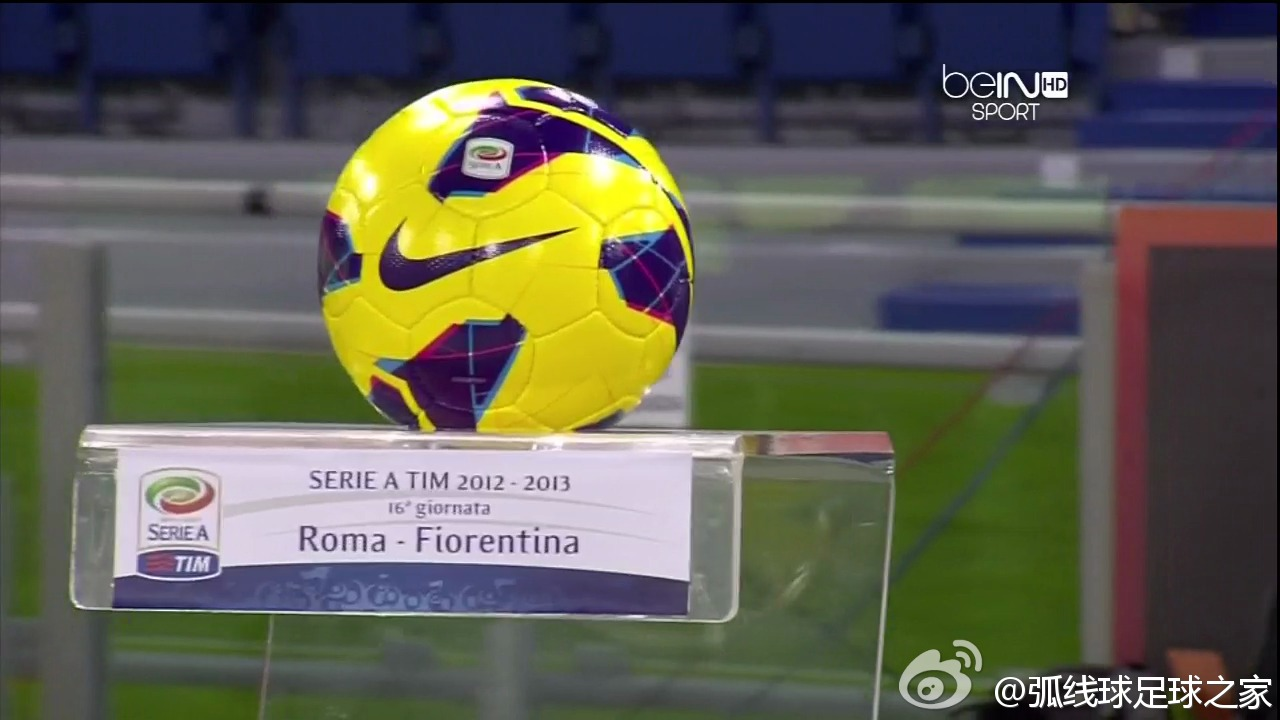ball: (317, 77, 694, 434)
